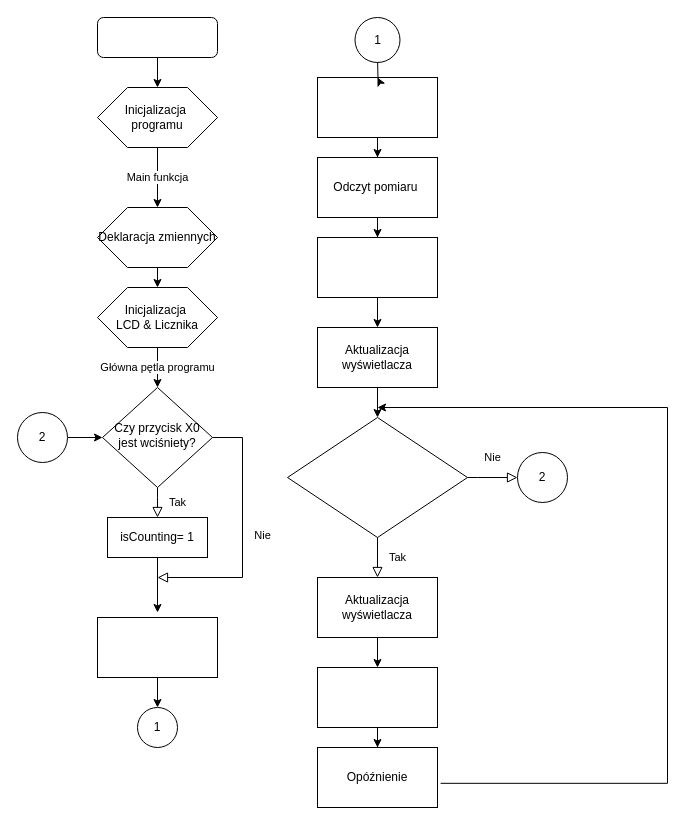
The diagram is 693 pixels wide and 825 high, and some of its shapes have lost their labels. The box of each missing label's shape, as (x1, y1, x2, y2) in pixels:
Aktualizacja czasu: (316, 666, 438, 728)
Czy isCounting ==1 && time != 0: (286, 416, 468, 538)
Konwersja pomiaru Przypisanie time: (316, 236, 438, 298)
Odczekanie za pomiarem: (316, 76, 438, 138)
Start: (96, 16, 218, 58)
Start pomiaru z przetwornika: (96, 616, 218, 678)
